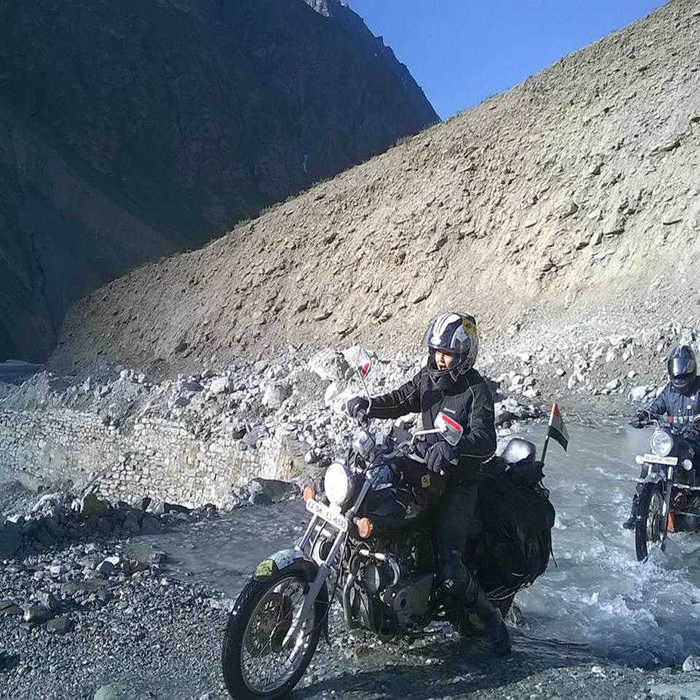h: (418, 309, 482, 394), (665, 342, 698, 397)
n: (304, 495, 349, 536)
